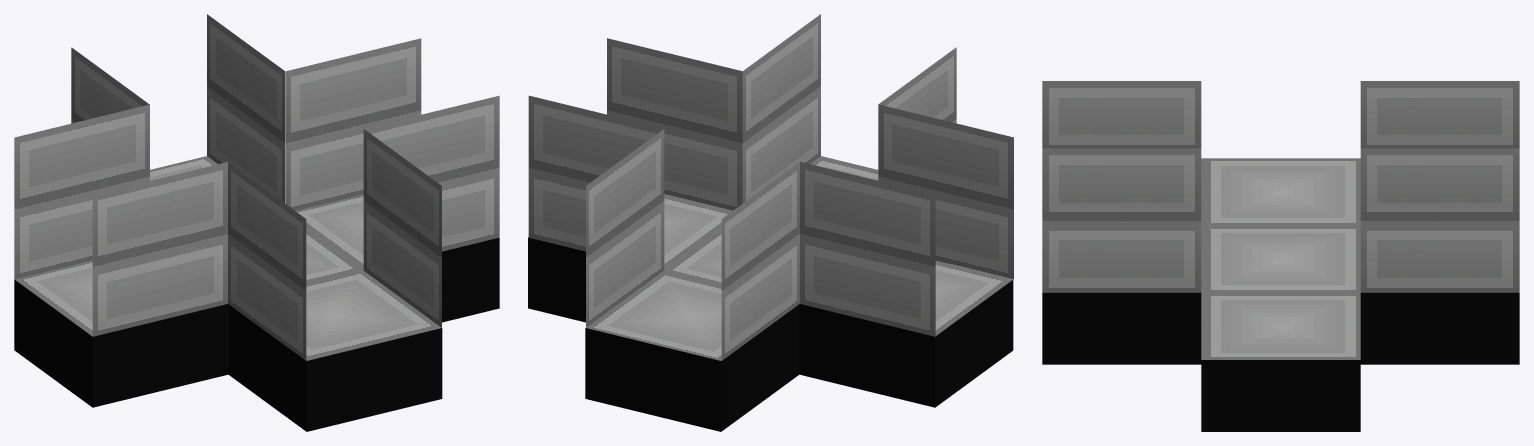
3 views of the same model, side by side, from view 1: azimuth 30°, elevation 25°; view 2: azimuth 150°, elevation 25°; view 3: azimuth 270°, elevation 25° (orthographic).
Visible parts, largest first — view 1: Cube.588; view 2: Cube.588; view 3: Cube.588.
Boxes of the visible parts, x1,y1,x2,y2 form: Cube.588: [14, 14, 499, 431]; Cube.588: [528, 14, 1013, 431]; Cube.588: [1042, 81, 1519, 431].
Size of the model in its own units: 6 by 3 by 6.
2 materials, 1 textured.
